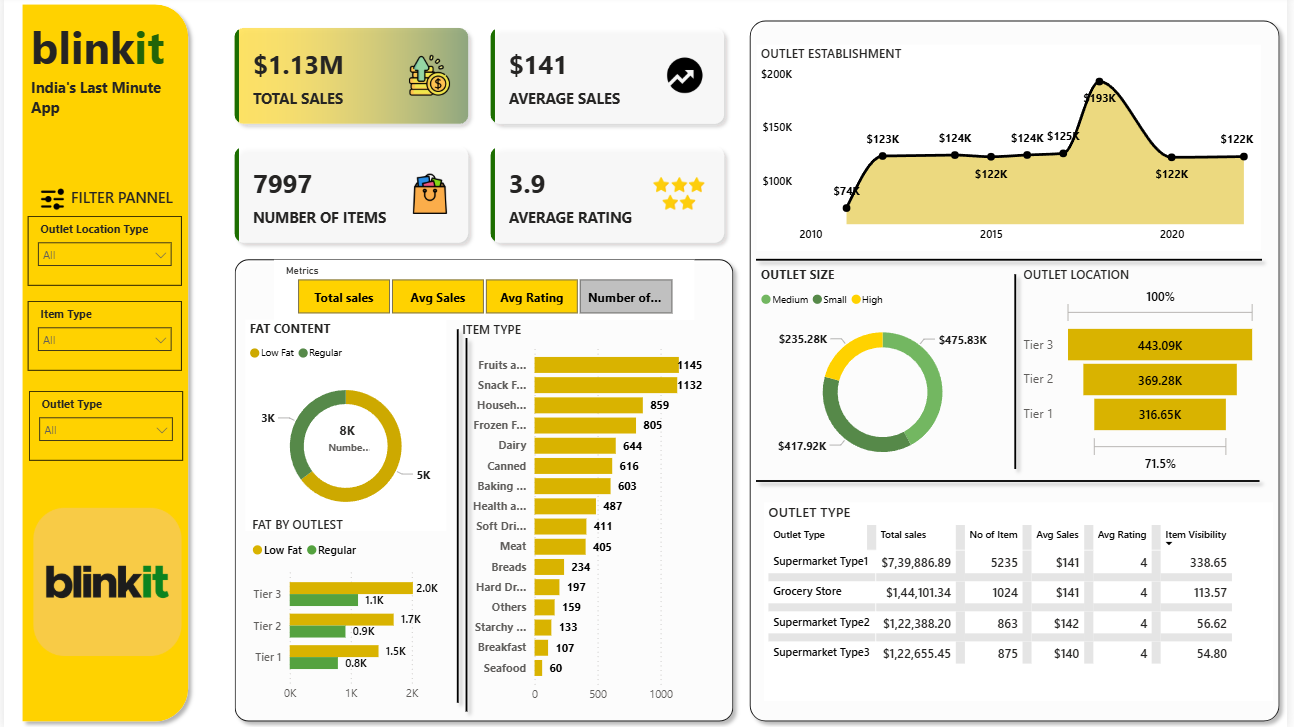

What the dashboard file says about the page in this screenshot:
{"tool":"powerbi","page":{"name":"Page 1","canvas":[1400,800],"ordinal":0},"visuals":[{"type":"shape","box":[10.9,0,199,800.3],"z":0},{"type":"textbox","box":[24,18,210.1,78],"z":1000},{"type":"textbox","box":[24,82.5,168.1,69],"z":2000},{"type":"cardVisual","fields":{"Data":["BlinkIT Grocery Data.Total sales","BlinkIT Grocery Data.Avg Sales","BlinkIT Grocery Data.Number of Item","BlinkIT Grocery Data.Avg Rating"]},"box":[234.5,17.7,569.9,269.9],"z":3000},{"type":"shape","box":[242.7,278.1,561.7,522.2],"z":4000},{"type":"donutChart","title":"FAT CONTENT","fields":{"Y":["BlinkIT Grocery Data.Number of Item"],"Category":["BlinkIT Grocery Data.Item Fat Content"]},"box":[263.1,353.1,219.5,230.4],"z":5000},{"type":"slicer","fields":{"Values":["Metrics.Metrics"]},"box":[294.5,287.7,458.1,65.4],"z":6000},{"type":"cardVisual","fields":{"Data":["BlinkIT Grocery Data.Number of Item"]},"box":[327.2,433.5,94.1,95.4],"z":7000},{"type":"clusteredBarChart","title":"FAT BY OUTLEST","fields":{"Y":["BlinkIT Grocery Data.Number of Item"],"Category":["BlinkIT Grocery Data.Outlet Location Type"],"Series":["BlinkIT Grocery Data.Item Fat Content"]},"box":[265.9,567.1,219.5,211.3],"z":8000},{"type":"shape","box":[473.1,354.5,43.6,425.4],"z":9000},{"type":"barChart","title":"ITEM TYPE","fields":{"Y":["BlinkIT Grocery Data.Number of Item"],"Category":["BlinkIT Grocery Data.Item Type"]},"box":[494.9,354.5,284.9,425.4],"z":10000},{"type":"shape","box":[804.4,17.7,595.8,782.6],"z":11000},{"type":"lineChart","title":"OUTLET ESTABLISHMENT ","fields":{"Y":["BlinkIT Grocery Data.Total sales"],"Category":["BlinkIT Grocery Data.Outlet Establishment Year"]},"box":[820.7,53.2,550.8,225],"z":12000},{"type":"shape","box":[811.2,75,569.9,425.4],"z":13000},{"type":"donutChart","title":"OUTLET SIZE","fields":{"Y":["BlinkIT Grocery Data.Total sales"],"Category":["BlinkIT Grocery Data.Outlet Size"]},"box":[820.7,294.5,275.4,230.4],"z":13001},{"type":"shape","box":[1081.1,294.5,43.6,230.4],"z":13002},{"type":"funnel","title":"OUTLET LOCATION","fields":{"Y":["Sum(BlinkIT Grocery Data.Sales)"],"Category":["BlinkIT Grocery Data.Outlet Location Type"]},"box":[1107,294.5,264.5,230.4],"z":13003},{"type":"shape","box":[811.2,316.3,567.1,425.4],"z":13004},{"type":"pivotTable","title":"OUTLET TYPE","fields":{"Rows":["BlinkIT Grocery Data.Outlet Type"],"Values":["BlinkIT Grocery Data.Total sales","BlinkIT Grocery Data.Number of Item","BlinkIT Grocery Data.Avg Sales","BlinkIT Grocery Data.Avg Rating","Sum(BlinkIT Grocery Data.Item Visibility)"]},"box":[828.9,552.2,554.9,216.8],"z":13005},{"type":"slicer","fields":{"Values":["BlinkIT Grocery Data.Outlet Location Type"]},"box":[25.9,239.9,167.7,76.3],"z":13006},{"type":"shape","box":[483.1,364.5,43.6,425.4],"z":13007},{"type":"slicer","fields":{"Values":["BlinkIT Grocery Data.Item Type"]},"box":[25.9,332.7,167.7,76.3],"z":13008},{"type":"slicer","fields":{"Values":["BlinkIT Grocery Data.Outlet Type"]},"box":[27.3,430.8,167.7,76.3],"z":13009},{"type":"textbox","box":[68.2,203.1,124.1,36.8],"z":13010},{"type":"image","box":[27.3,203.1,50.4,36.8],"z":13011},{"type":"image","box":[27.3,489.4,171.8,299.9],"z":13012}]}

Visuals, with their boxes in screenshot pixels (x1, y1, x2, y2), scaled from the page's 1400x800 canvas onto the 1294x727 screenshot:
shape: x1=10 y1=0 x2=194 y2=726
textbox: x1=22 y1=16 x2=216 y2=87
textbox: x1=22 y1=75 x2=178 y2=138
cardVisual - BlinkIT Grocery Data.Total sales x BlinkIT Grocery Data.Avg Sales: x1=217 y1=16 x2=743 y2=261
shape: x1=224 y1=253 x2=743 y2=726
"FAT CONTENT" donutChart: x1=243 y1=321 x2=446 y2=530
slicer - Metrics.Metrics: x1=272 y1=261 x2=696 y2=321
cardVisual - BlinkIT Grocery Data.Number of Item: x1=302 y1=394 x2=389 y2=481
"FAT BY OUTLEST" clusteredBarChart: x1=246 y1=515 x2=449 y2=707
shape: x1=437 y1=322 x2=478 y2=709
"ITEM TYPE" barChart: x1=457 y1=322 x2=721 y2=709
shape: x1=743 y1=16 x2=1293 y2=726
"OUTLET ESTABLISHMENT " lineChart: x1=759 y1=48 x2=1268 y2=253
shape: x1=750 y1=68 x2=1277 y2=455
"OUTLET SIZE" donutChart: x1=759 y1=268 x2=1013 y2=477
shape: x1=999 y1=268 x2=1040 y2=477
"OUTLET LOCATION" funnel: x1=1023 y1=268 x2=1268 y2=477
shape: x1=750 y1=287 x2=1274 y2=674
"OUTLET TYPE" pivotTable: x1=766 y1=502 x2=1279 y2=699
slicer - BlinkIT Grocery Data.Outlet Location Type: x1=24 y1=218 x2=179 y2=287
shape: x1=447 y1=331 x2=487 y2=718
slicer - BlinkIT Grocery Data.Item Type: x1=24 y1=302 x2=179 y2=372
slicer - BlinkIT Grocery Data.Outlet Type: x1=25 y1=391 x2=180 y2=461
textbox: x1=63 y1=185 x2=178 y2=218
image: x1=25 y1=185 x2=72 y2=218
image: x1=25 y1=445 x2=184 y2=717
